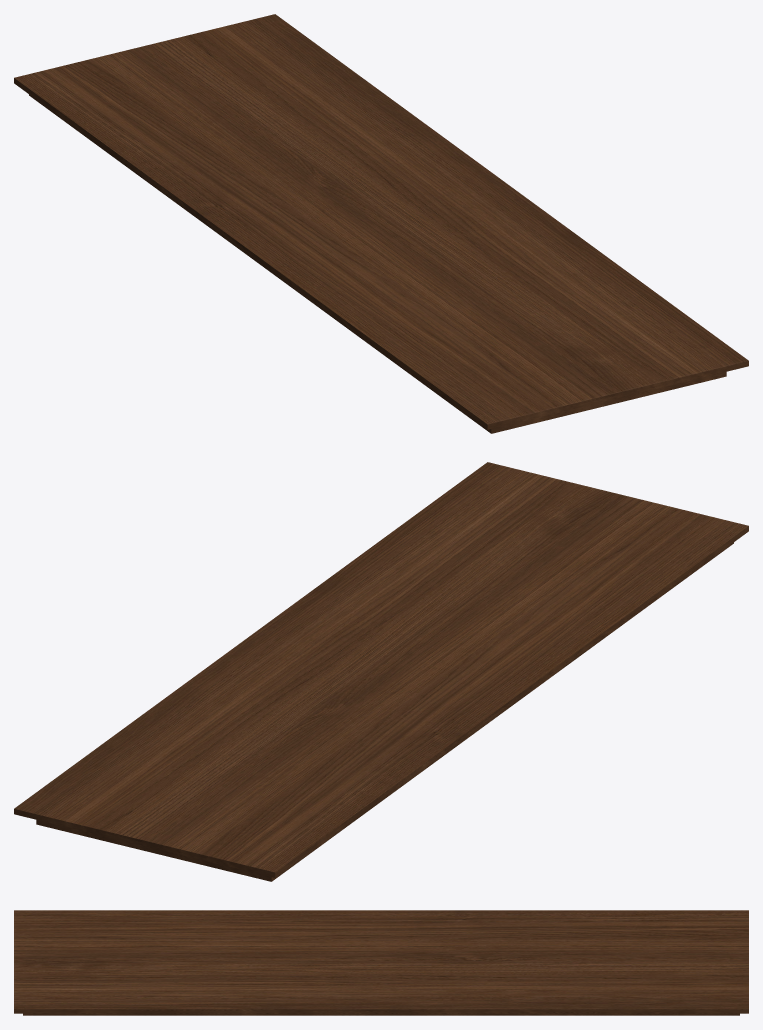
File: pedestal_top-438d8fcfe94b.glb
The picture shows the model from 3 angles, top to bottom: view 1: azimuth 30°, elevation 25°; view 2: azimuth 150°, elevation 25°; view 3: azimuth 270°, elevation 25°; orthographic projection. The views are drawn at different scales.
Parts seen in each view (by area): view 1: Furniture <04-Arkitek_Mesa Direccion con Apoyo en Block_fd81; view 2: Furniture <04-Arkitek_Mesa Direccion con Apoyo en Block_fd81; view 3: Furniture <04-Arkitek_Mesa Direccion con Apoyo en Block_fd81.
Boxes of the visible parts, box(x1,y1,x2,y2) form: Furniture <04-Arkitek_Mesa Direccion con Apoyo en Block_fd81: box(14, 14, 748, 433); Furniture <04-Arkitek_Mesa Direccion con Apoyo en Block_fd81: box(14, 462, 748, 881); Furniture <04-Arkitek_Mesa Direccion con Apoyo en Block_fd81: box(14, 910, 748, 1015).
Size of the model in its own units: 0.5 by 0.029 by 1.57.
1 material, 1 textured.
